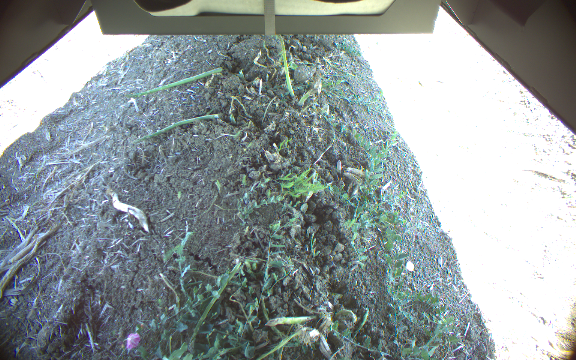aspa: (276, 34, 295, 97), (264, 315, 317, 326), (296, 89, 314, 107)
